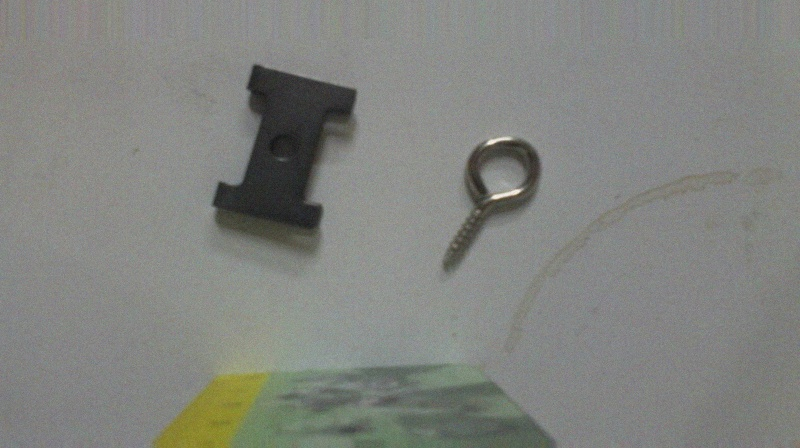O001: (435, 131, 546, 276)
O002: (208, 61, 360, 231)
